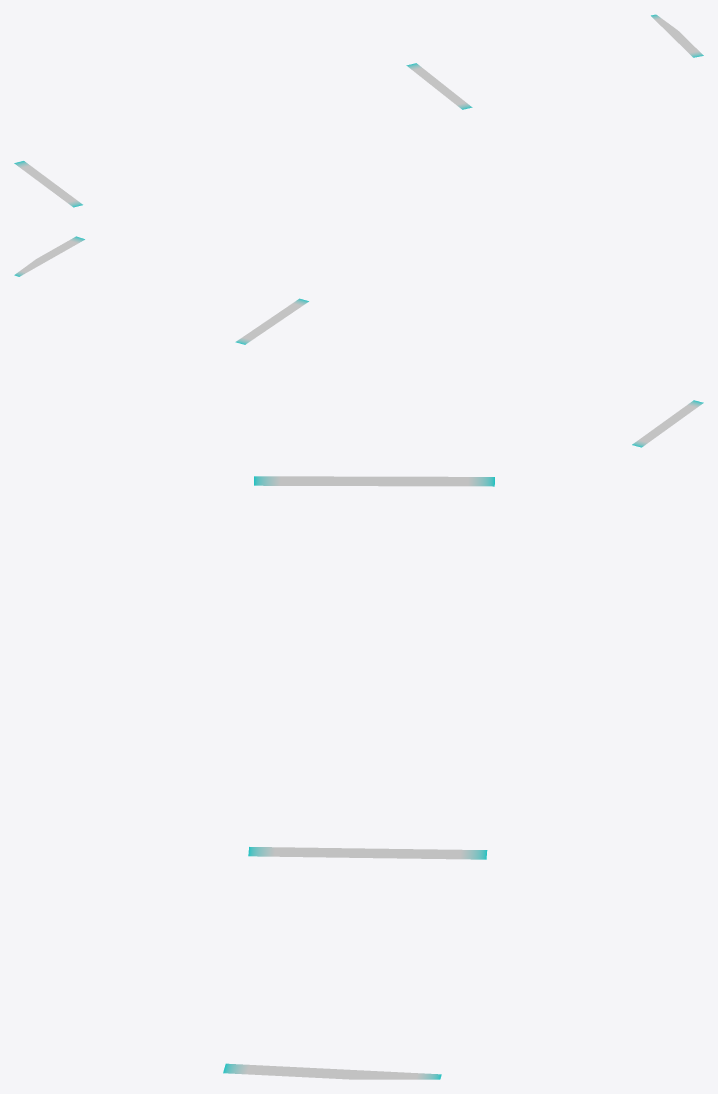
3 renders of one model, top to bottom at view 1: azimuth 30°, elevation 25°; view 2: azimuth 150°, elevation 25°; view 3: azimuth 270°, elevation 25°, orthographic. The views are drawn at different scales.
Parts seen in each view (by area): view 1: SpaceCenter_Long3_GenerateRoad_Asphalt_PCGMesh_Decal_Mesh_x1; view 2: SpaceCenter_Long3_GenerateRoad_Asphalt_PCGMesh_Decal_Mesh_x1; view 3: SpaceCenter_Long3_GenerateRoad_Asphalt_PCGMesh_Decal_Mesh_x1.
Boxes of the visible parts, left/top/right/bottom form: SpaceCenter_Long3_GenerateRoad_Asphalt_PCGMesh_Decal_Mesh_x1: left=14, top=14, right=703, bottom=207; SpaceCenter_Long3_GenerateRoad_Asphalt_PCGMesh_Decal_Mesh_x1: left=14, top=236, right=703, bottom=447; SpaceCenter_Long3_GenerateRoad_Asphalt_PCGMesh_Decal_Mesh_x1: left=223, top=476, right=494, bottom=1079.
Size of the model in its own units: 425 by 2270 by 18.65.
